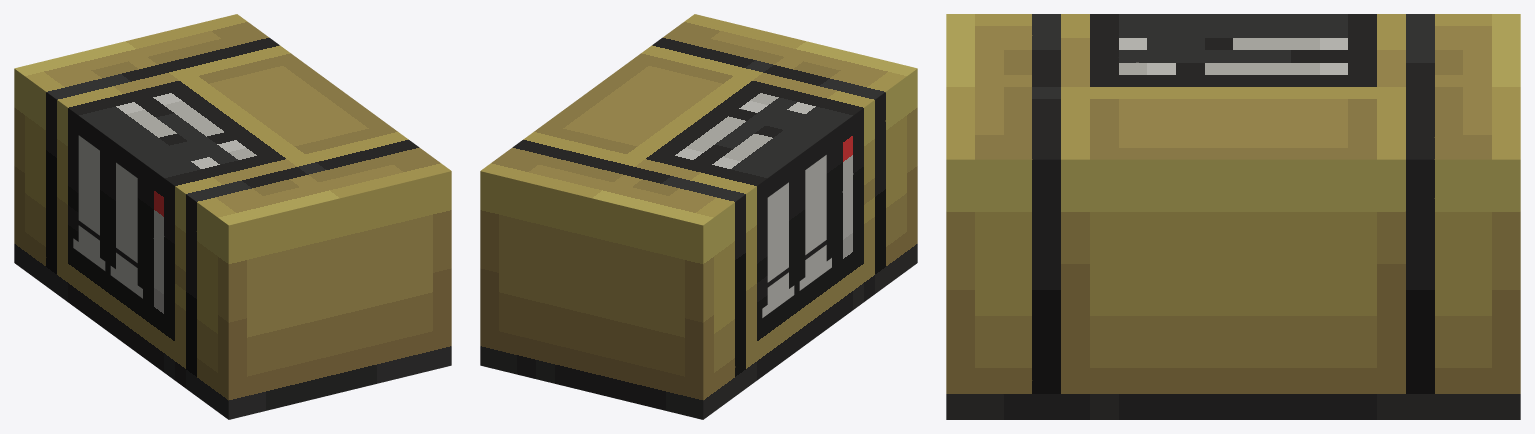
File: bullet_buckshot.glb
The picture shows the model from 3 angles, left to right: view 1: azimuth 30°, elevation 25°; view 2: azimuth 150°, elevation 25°; view 3: azimuth 270°, elevation 25°; orthographic projection. The views are drawn at different scales.
Visible parts, largest first — view 1: box_0, pattern_2; view 2: box_0, pattern_2; view 3: box_0.
Boxes of the visible parts, x1,y1,x2,y2 form: box_0: (14, 14, 451, 419); pattern_2: (73, 135, 142, 298); box_0: (480, 14, 917, 419); pattern_2: (762, 155, 831, 317); box_0: (946, 14, 1520, 419).
Size of the model in its own units: 0.3751 by 0.3125 by 0.625.
Materials: 1 (1 with a texture image).
